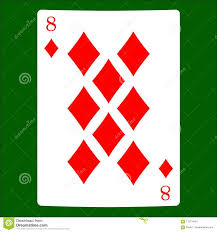eight of diamonds: (36, 11, 180, 204)
